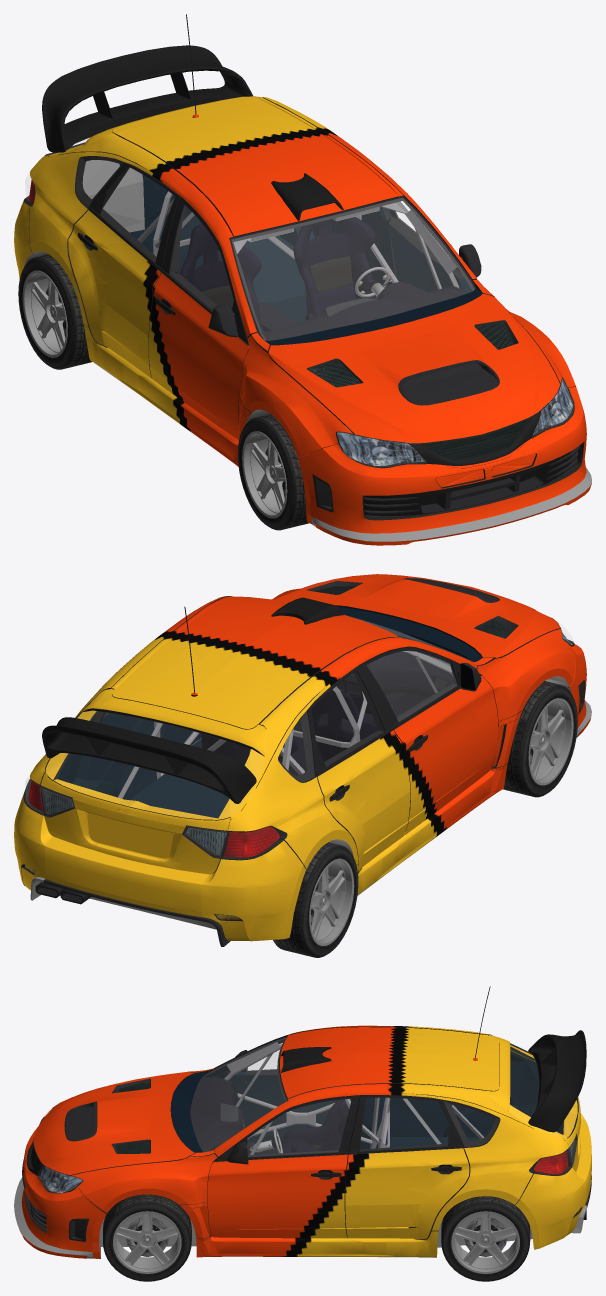
The model's file is RallyCar.FBX.
3 renders of one model, top to bottom at view 1: azimuth 30°, elevation 25°; view 2: azimuth 150°, elevation 25°; view 3: azimuth 270°, elevation 25°, orthographic. The views are drawn at different scales.
Parts seen in each view (by area): view 1: Body, Glass, Inside, FR, BR; view 2: Body, Inside, FR, BR, Glass; view 3: Body, Glass, FL, BL, Inside.
Boxes of the visible parts, bbox=[...] form: Body: bbox=[14, 14, 591, 545]; Glass: bbox=[25, 138, 571, 395]; Inside: bbox=[180, 217, 472, 425]; FR: bbox=[238, 414, 309, 530]; BR: bbox=[18, 254, 91, 369]; Body: bbox=[14, 574, 591, 946]; Inside: bbox=[197, 636, 454, 775]; FR: bbox=[503, 681, 577, 797]; BR: bbox=[273, 842, 358, 957]; Glass: bbox=[25, 619, 572, 808]; Body: bbox=[14, 986, 591, 1258]; Glass: bbox=[47, 1038, 577, 1162]; FL: bbox=[103, 1194, 191, 1281]; BL: bbox=[441, 1196, 530, 1281]; Inside: bbox=[187, 1077, 351, 1157].
Size of what is drawn, in the model's own units: 41.67 by 43.42 by 93.71.
